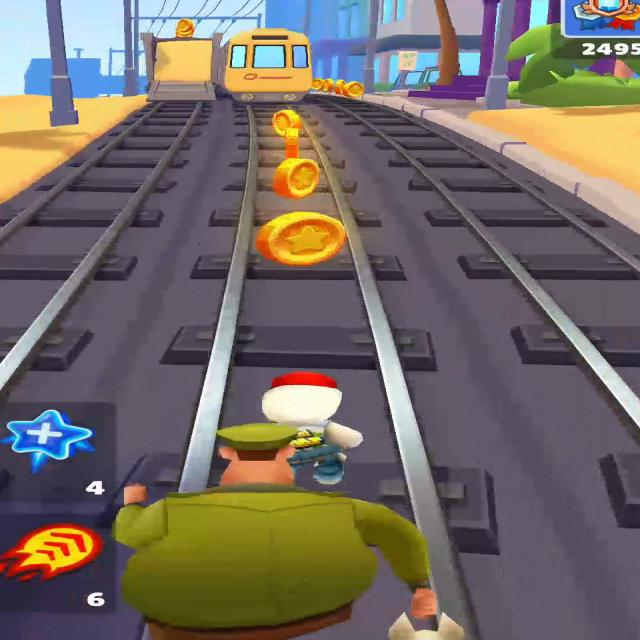climber: (145, 34, 219, 101)
train: (217, 29, 313, 104)
